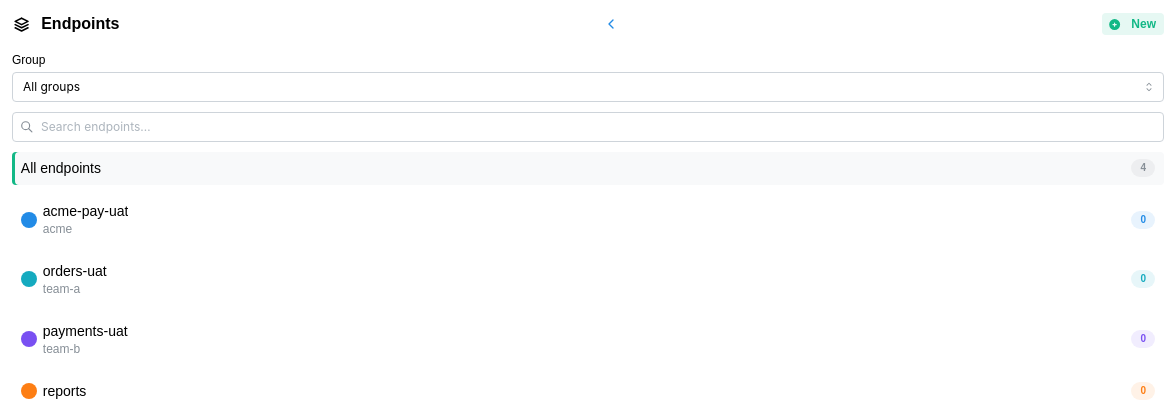
Test: EndpointRail search › shows no-match message when filter yields nothing
Type "zzz-no-match" into the field labelled "Search endpoints…" at (588, 127), box [12,112,1164,142]
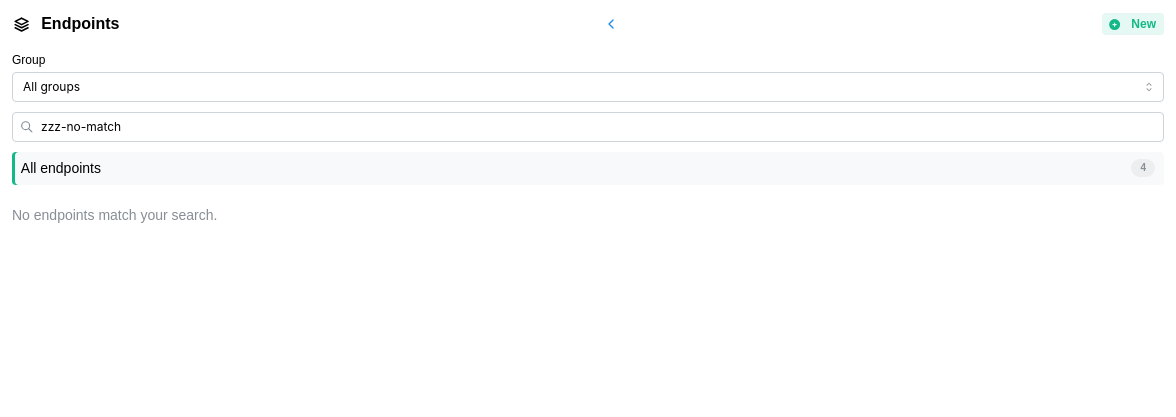
Check: the text "No endpoints match your search." is shown, box [12,207,218,223]
